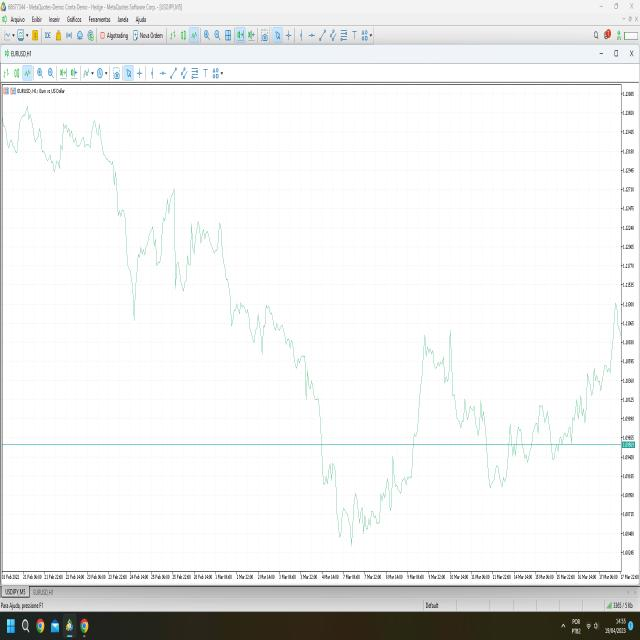bandeira_baixa: (216, 216, 280, 360)
fundo_duplo: (480, 384, 513, 509)
